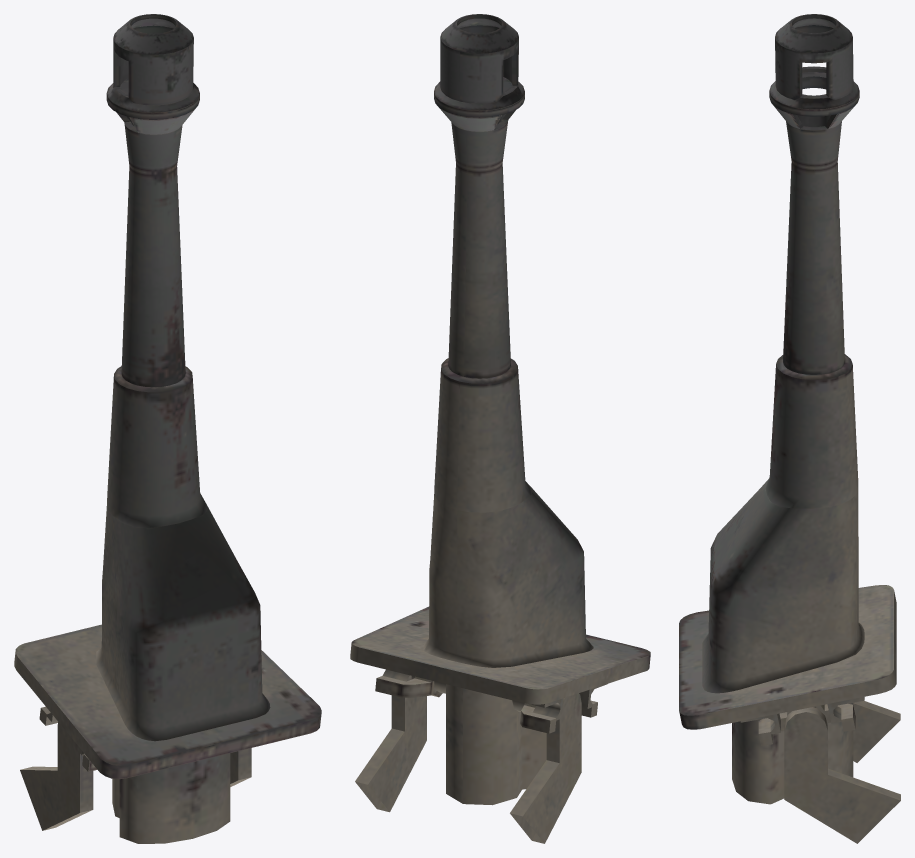
The model's file is Gun_05.glb.
3 views of the same model, side by side, from view 1: azimuth 30°, elevation 25°; view 2: azimuth 150°, elevation 25°; view 3: azimuth 270°, elevation 25° (orthographic). The views are drawn at different scales.
Parts seen in each view (by area): view 1: set_0_group_0; view 2: set_0_group_0; view 3: set_0_group_0.
Boxes of the visible parts, bbox=[...] form: set_0_group_0: bbox=[14, 14, 321, 843]; set_0_group_0: bbox=[350, 14, 650, 843]; set_0_group_0: bbox=[679, 14, 900, 843].
Size of the model in its own units: 0.8166 by 2.89 by 0.7431.
1 material, 1 textured.
